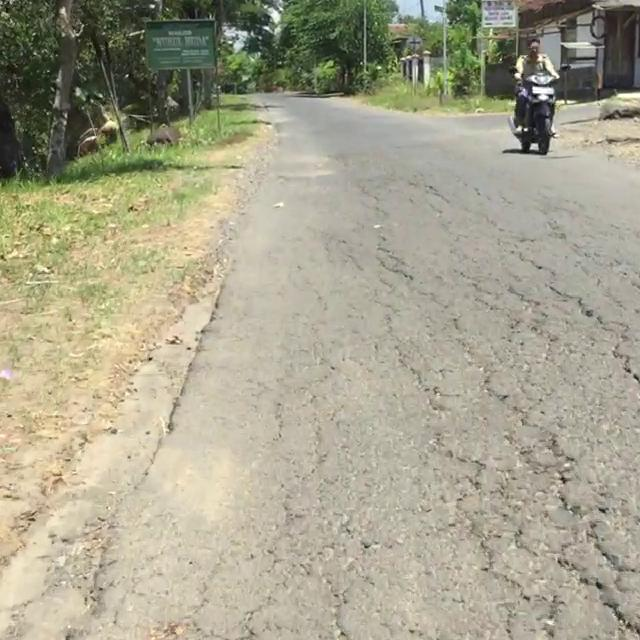retak_kulit_buaya: (432, 430, 640, 640), (490, 237, 640, 414)
